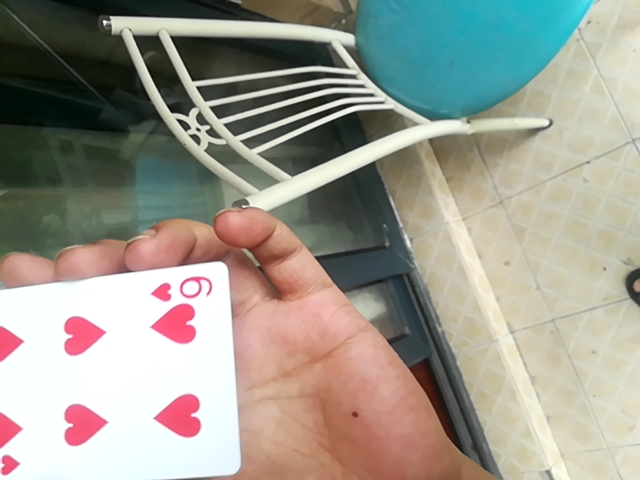hx 6: (0, 259, 235, 477)
